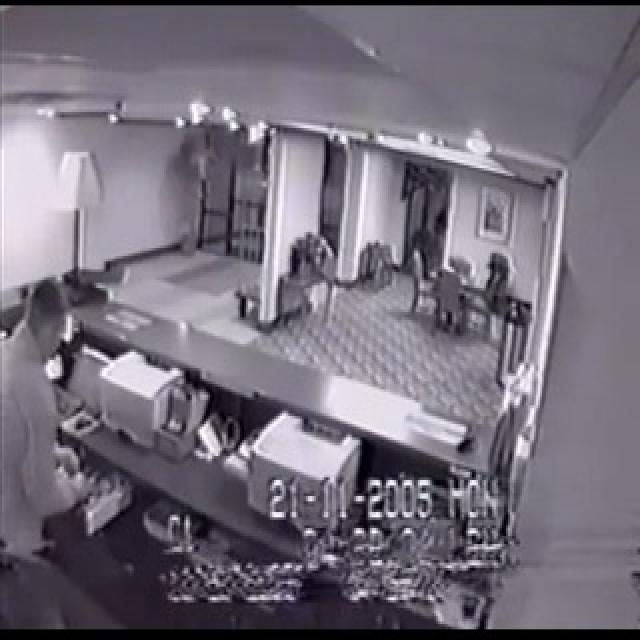thief: (0, 265, 135, 618)
